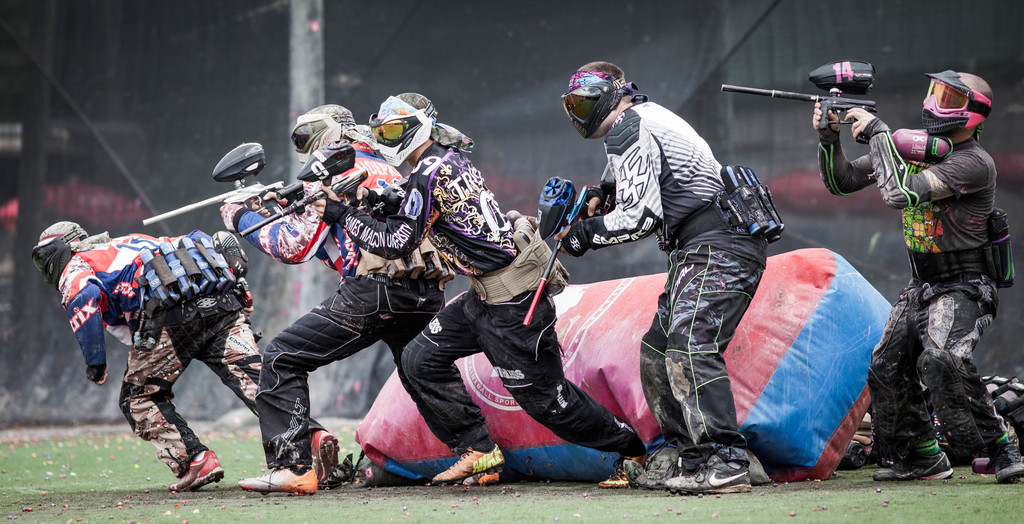Person: (310, 92, 646, 488), (218, 103, 498, 497), (554, 61, 770, 500), (811, 67, 1024, 481), (29, 219, 339, 495)
